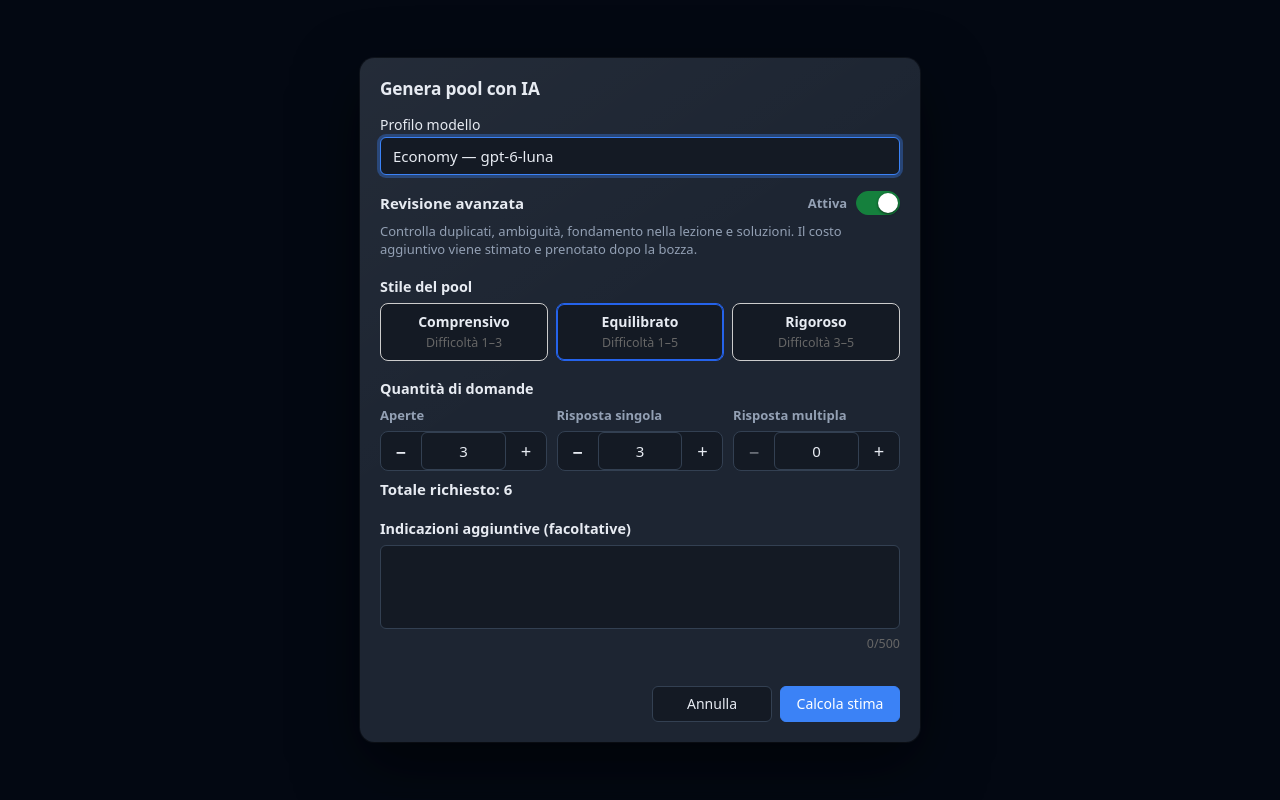
Test: AiPoolGenerationDialog — AIGEN-UI-01 UI › increments and decrements the correct type and updates the requested total
Expected: the text "Totale richiesto: 6" is shown, x1=380 y1=478 x2=512 y2=498
Click the button named "Aumenta domande aperte" at (526, 451), box x1=506 y1=432 x2=546 y2=470
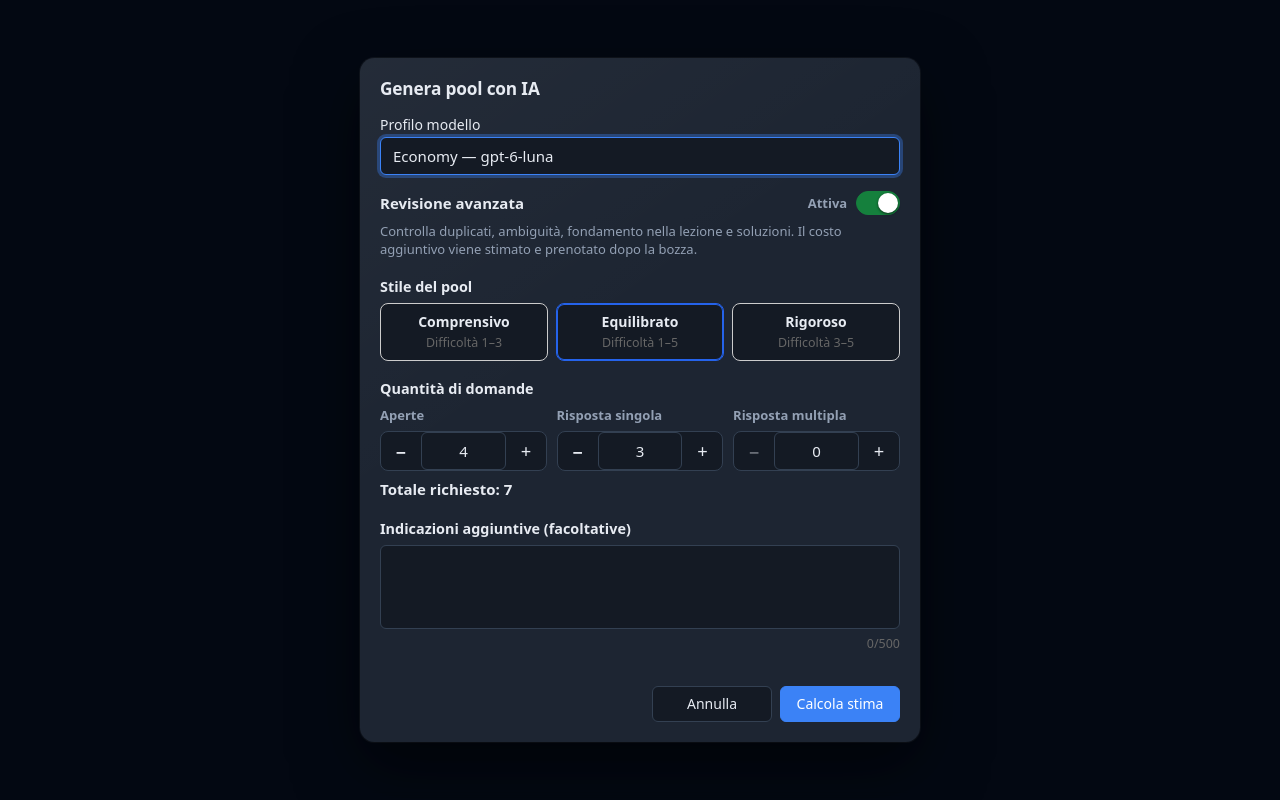
Expected: the field named "Aperte" holds "4", x1=421 y1=432 x2=506 y2=470
Expected: the text "Totale richiesto: 7" is shown, x1=380 y1=478 x2=512 y2=498
Click the button named "Diminuisci domande aperte" at (401, 451), box x1=381 y1=432 x2=421 y2=470
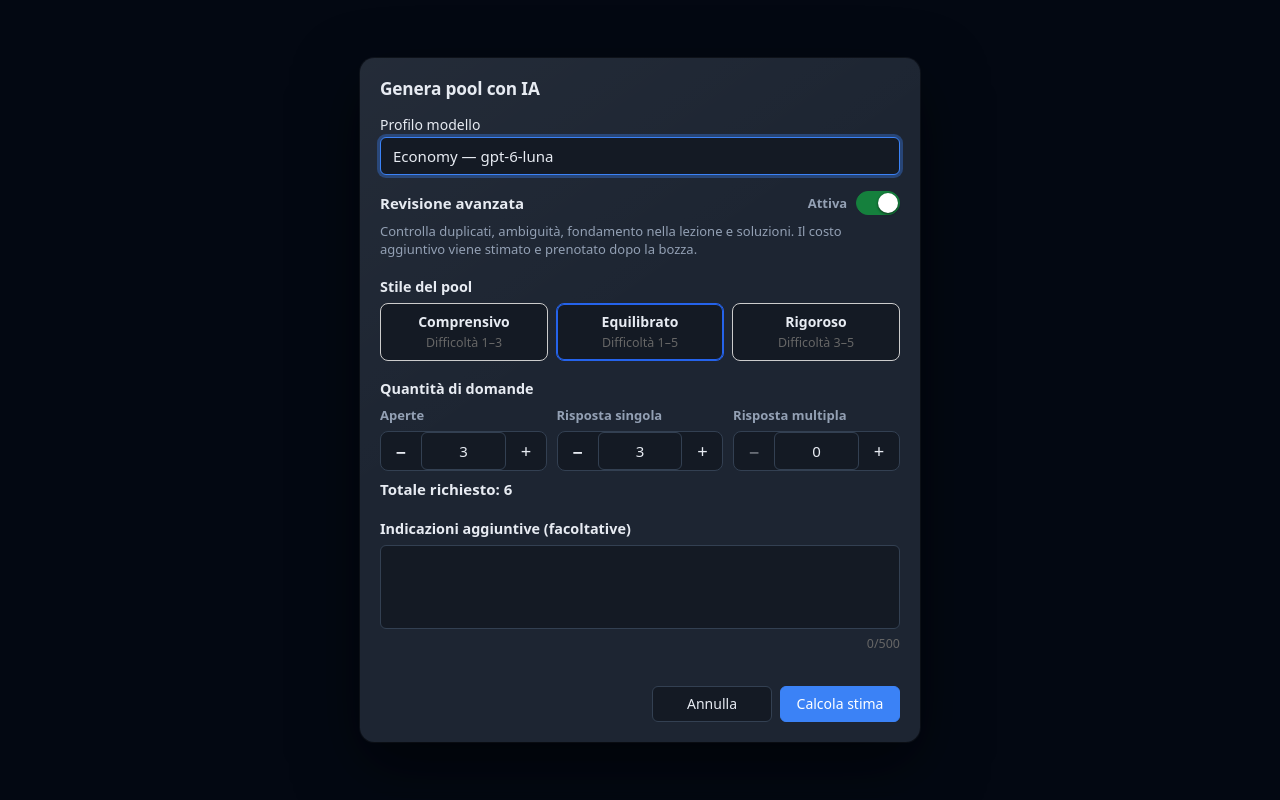
Expected: the field named "Aperte" holds "3", x1=421 y1=432 x2=506 y2=470
Expected: the text "Totale richiesto: 6" is shown, x1=380 y1=478 x2=512 y2=498
